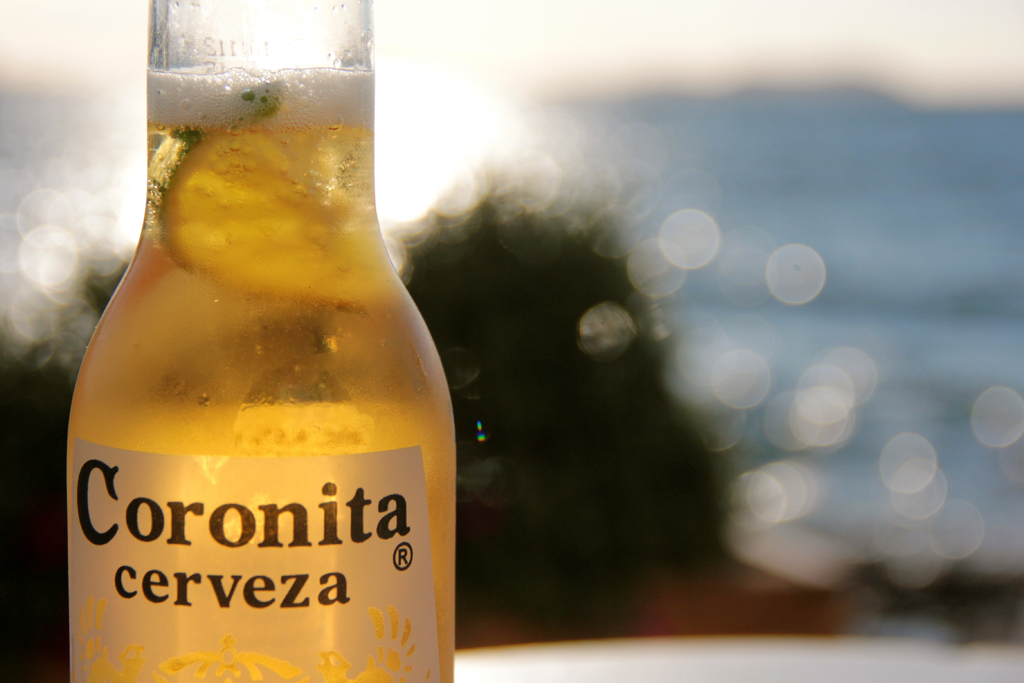Beer: (67, 72, 458, 679)
